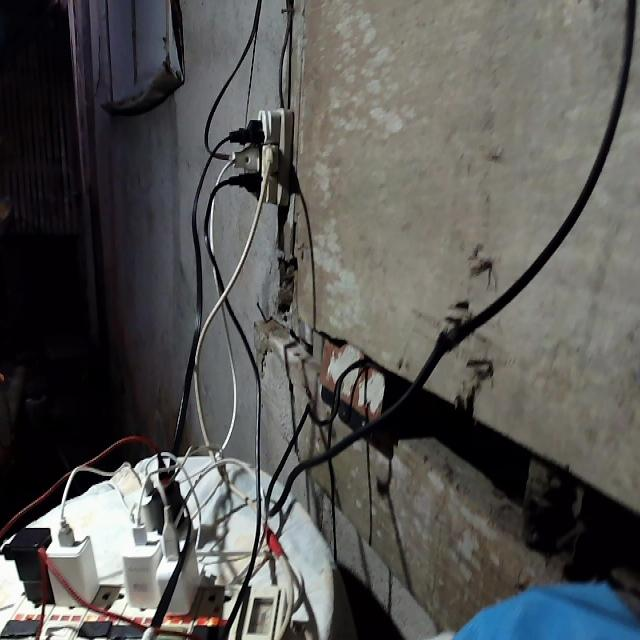-: (224, 104, 296, 208)
